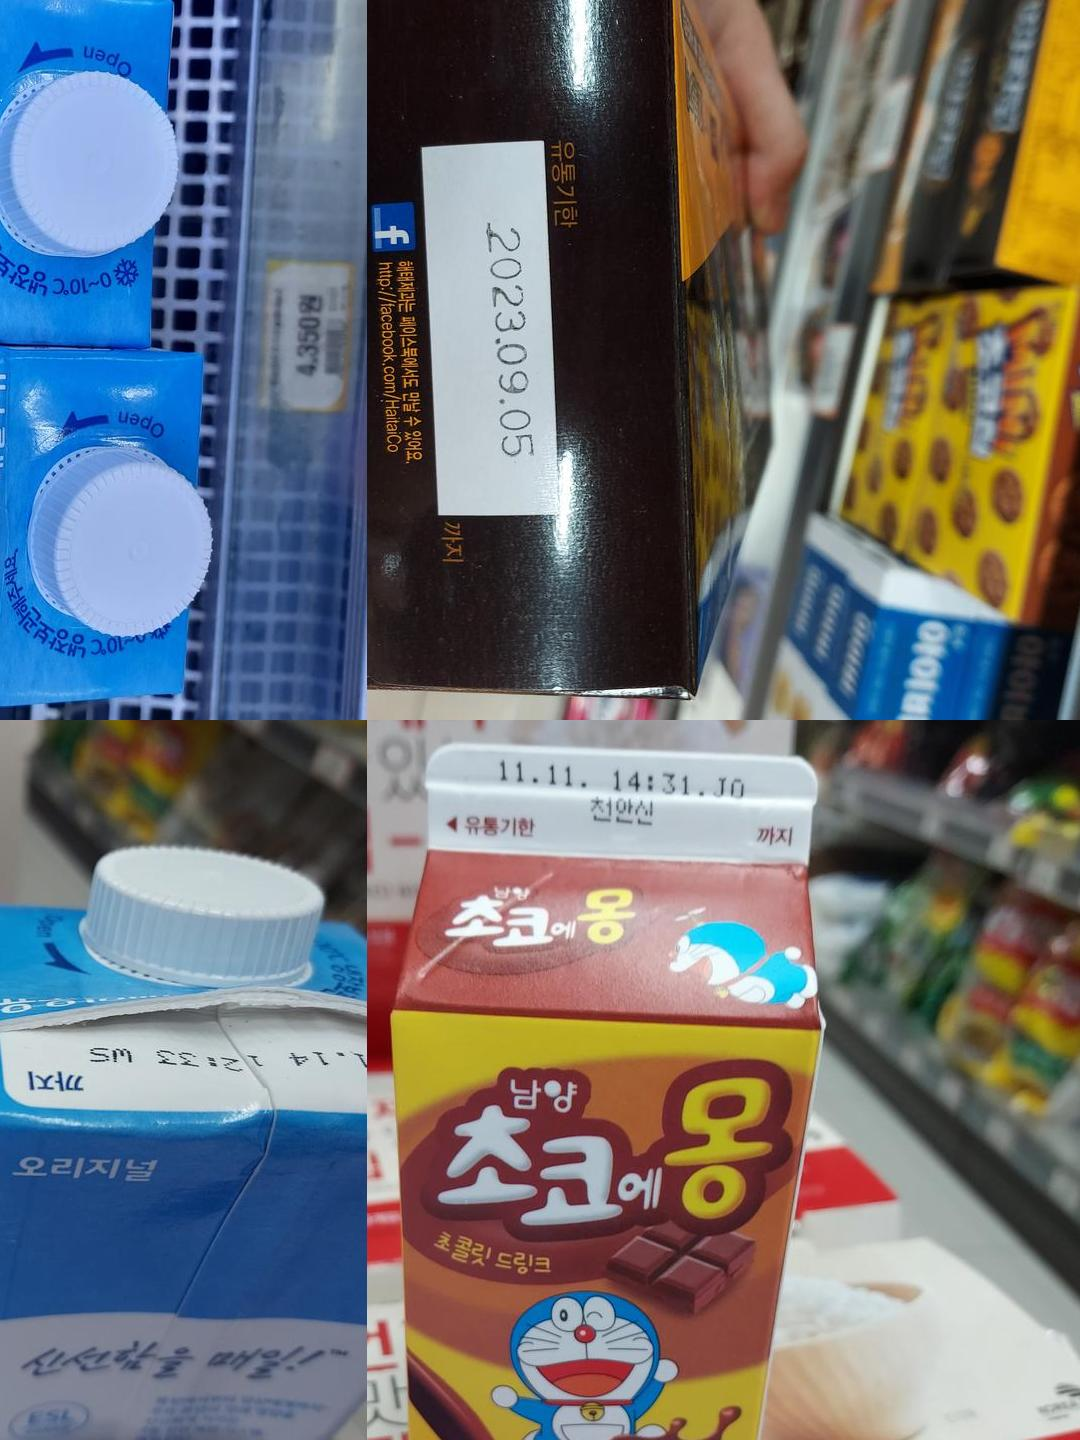milk: (420, 739, 809, 859), (0, 1020, 368, 1121), (0, 972, 253, 1059), (0, 363, 37, 710), (0, 0, 37, 333), (0, 320, 37, 647), (0, 0, 40, 285)
snack food: (429, 151, 554, 516)
